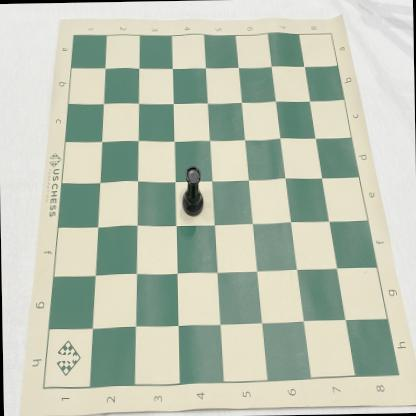rook: (180, 165, 204, 218)
